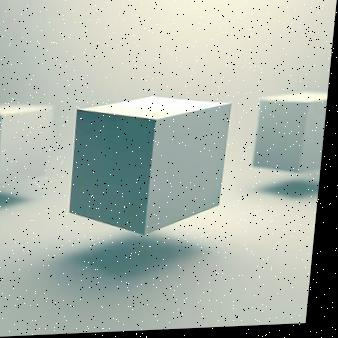cube: (70, 93, 233, 238)
